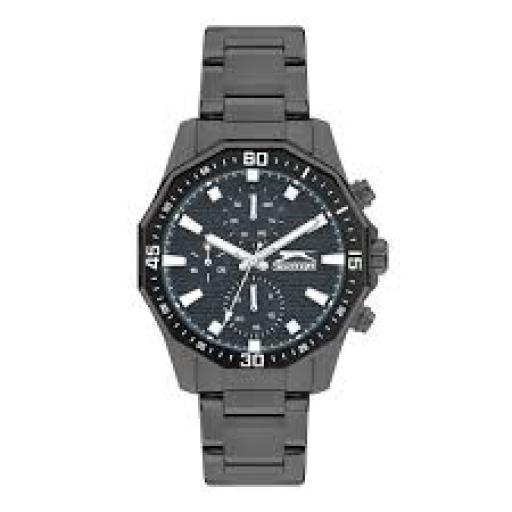KolSaati: (138, 16, 408, 499)
